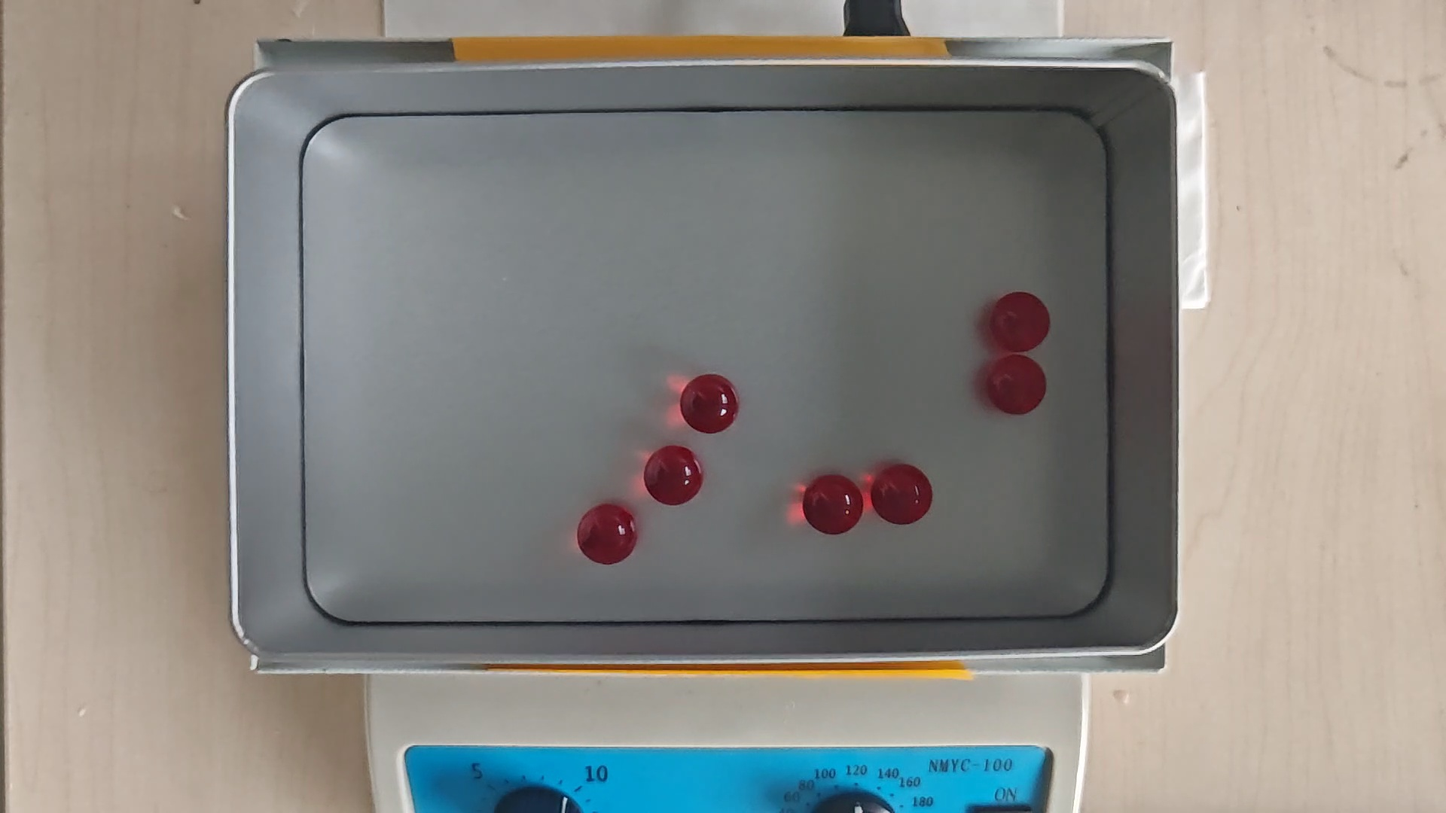ball: (872, 464, 933, 525), (804, 473, 864, 534), (987, 355, 1045, 416), (681, 374, 741, 432), (578, 504, 636, 563), (645, 445, 702, 505), (992, 291, 1049, 350)
container: (297, 111, 1109, 624)
